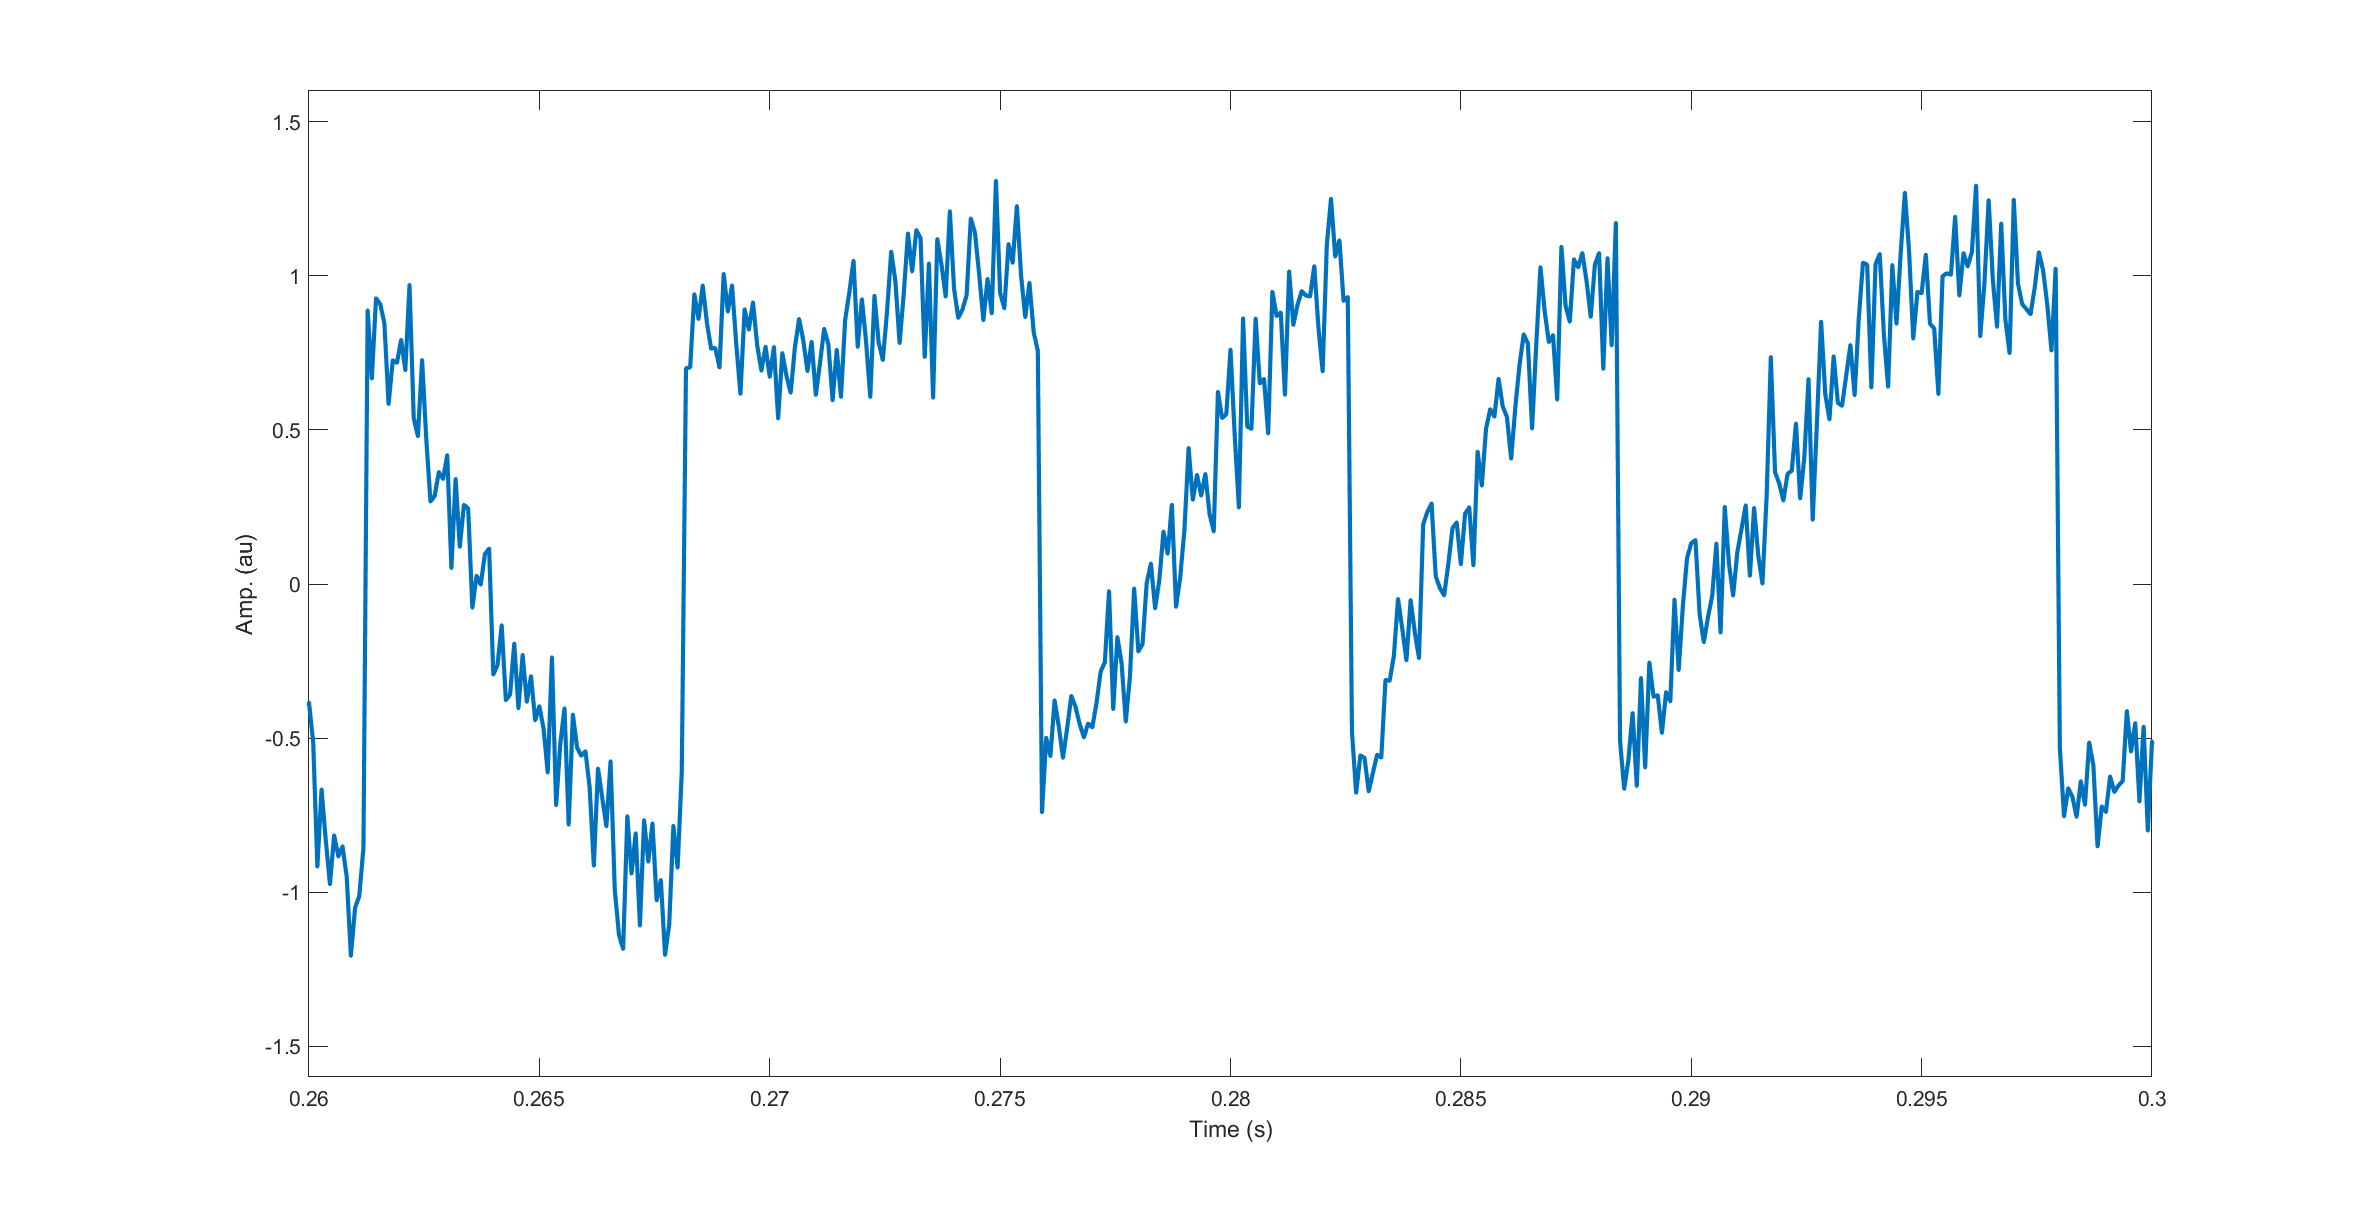negative_fringe: (346, 255, 633, 955)
positive_fringe: (1660, 162, 2071, 792), (1080, 177, 1360, 782), (1386, 204, 1626, 784)
